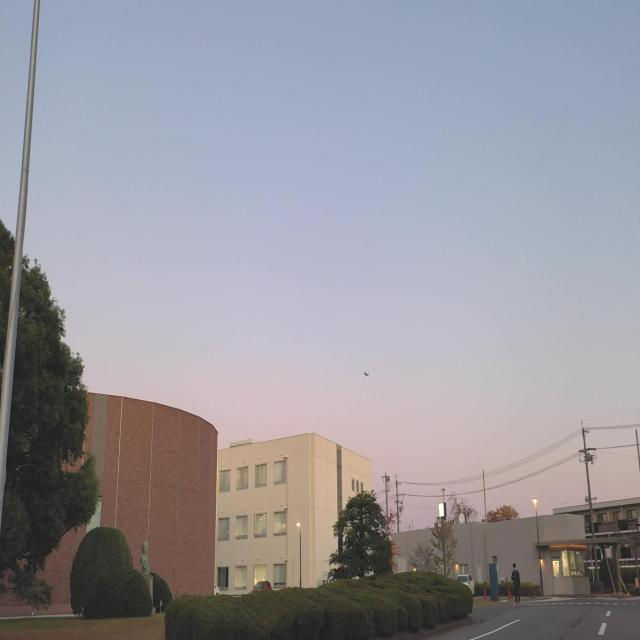Birds: (363, 370, 371, 378)
